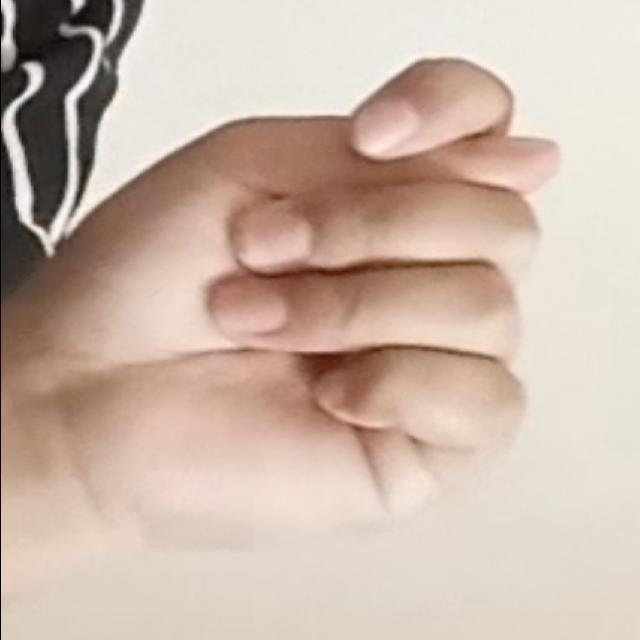T: (38, 51, 570, 564)
